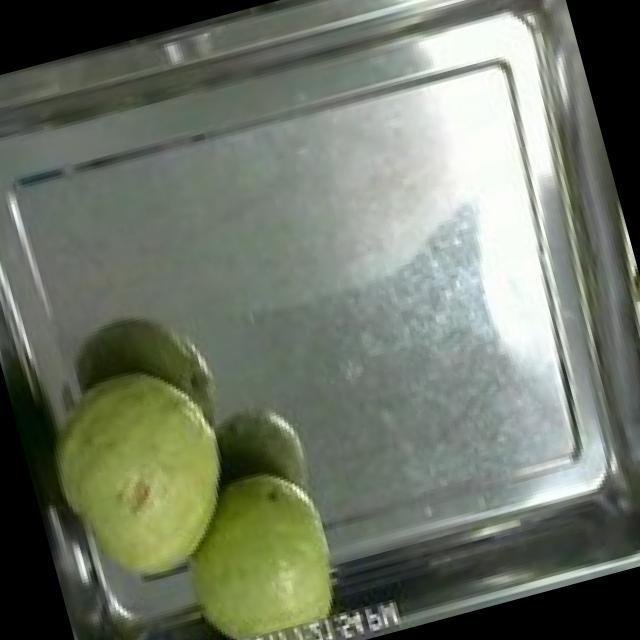Fruit: (12, 341, 262, 612), (157, 447, 365, 640)
